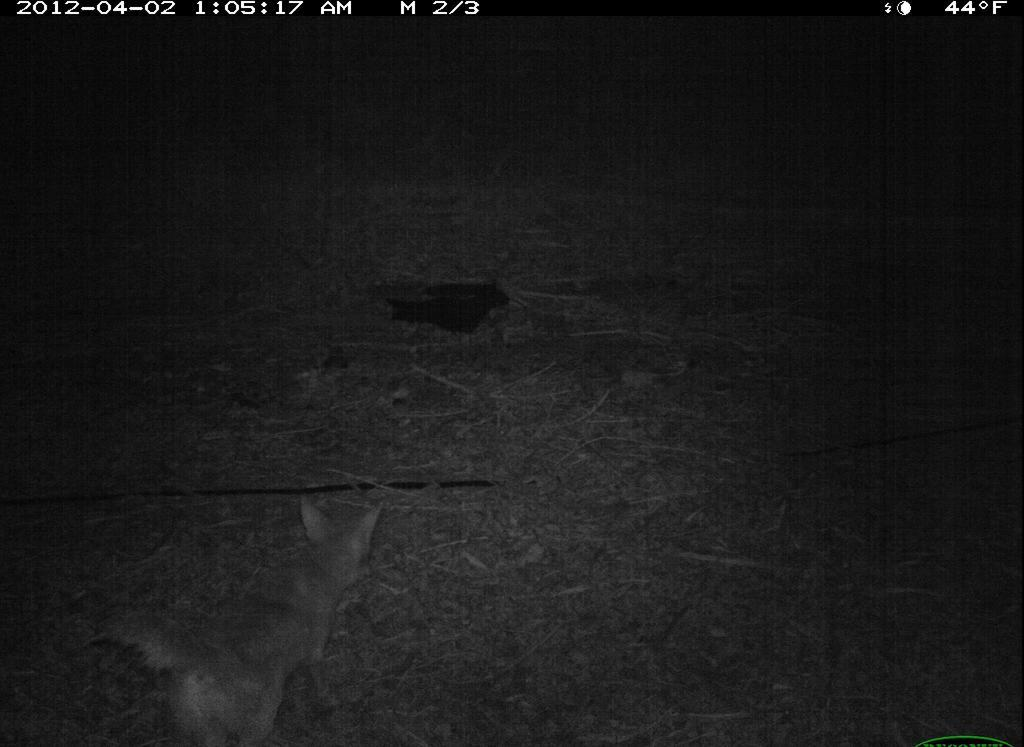coyote: (105, 473, 401, 747)
